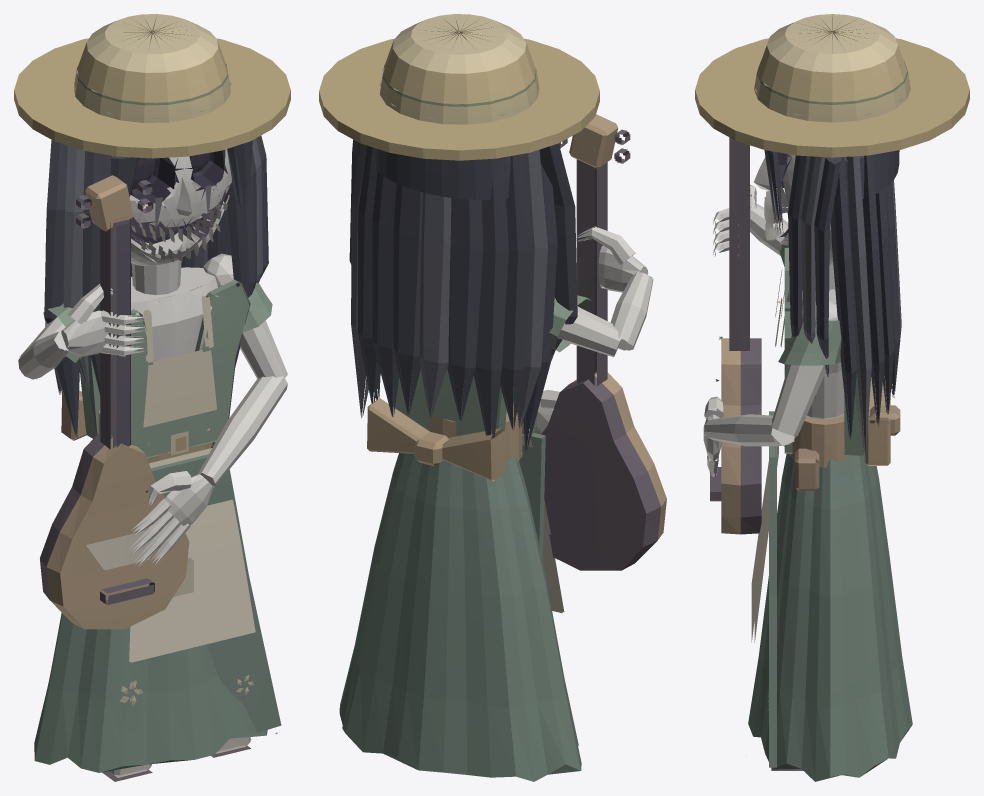
The model's file is MimicFarmer.glb.
The picture shows the model from 3 angles, left to right: view 1: azimuth 30°, elevation 25°; view 2: azimuth 150°, elevation 25°; view 3: azimuth 270°, elevation 25°; orthographic projection. The views are drawn at different scales.
Parts seen in each view (by area): view 1: Body, Head, ArmL, ArmR, LegR; view 2: Body, Head, ArmR, ArmL; view 3: Body, Head, ArmL, ArmR.
Part boxes in pixels (x1=…): Body: x1=34, y1=175, x2=281, y2=772; Head: x1=14, y1=14, x2=290, y2=437; ArmL: x1=129, y1=253, x2=287, y2=567; ArmR: x1=18, y1=284, x2=144, y2=379; LegR: x1=102, y1=764, x2=152, y2=781; Body: x1=339, y1=114, x2=666, y2=781; Head: x1=319, y1=14, x2=599, y2=450; ArmR: x1=549, y1=226, x2=653, y2=357; ArmL: x1=534, y1=390, x2=559, y2=434; Body: x1=710, y1=137, x2=912, y2=781; Head: x1=695, y1=14, x2=969, y2=453; ArmL: x1=703, y1=299, x2=841, y2=476; ArmR: x1=713, y1=184, x2=788, y2=266.
Bounding box in the file's own units: 3.09 × 7.71 × 2.72.
